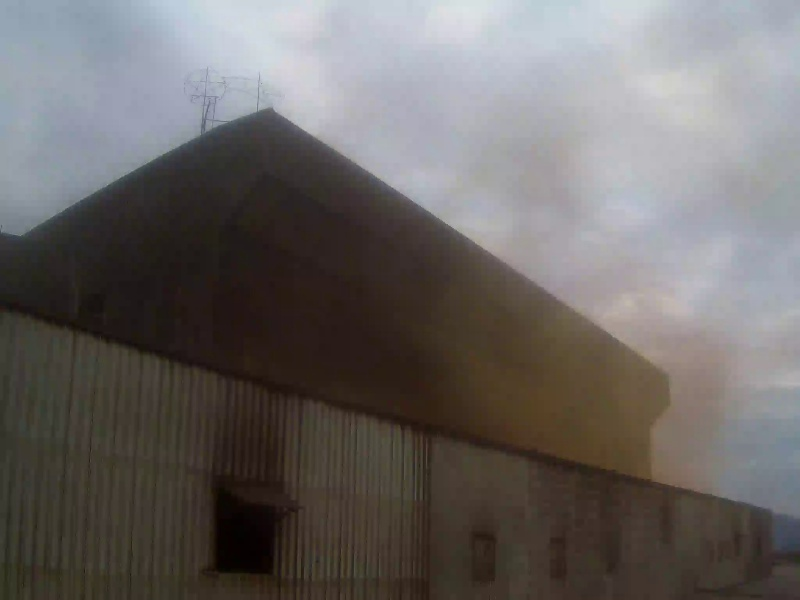Pessimo: (397, 189, 732, 490)
